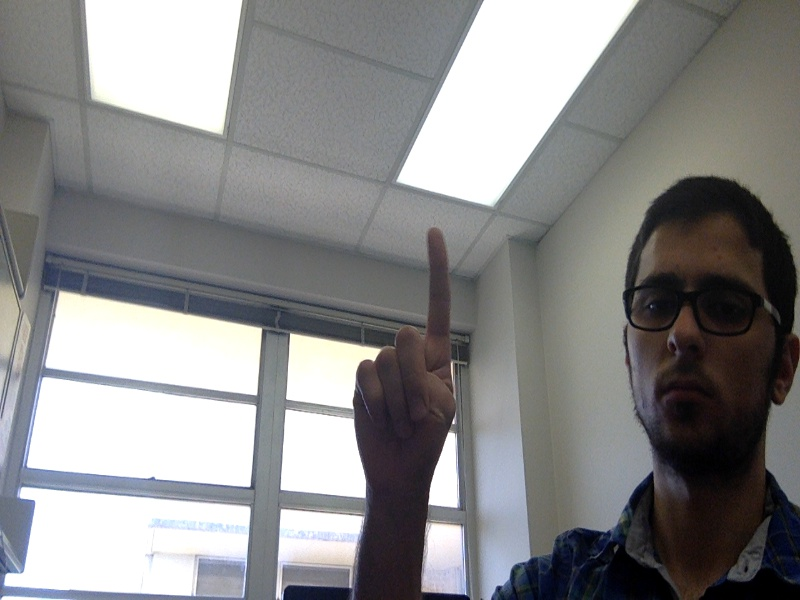1-hand: (348, 227, 461, 486)
